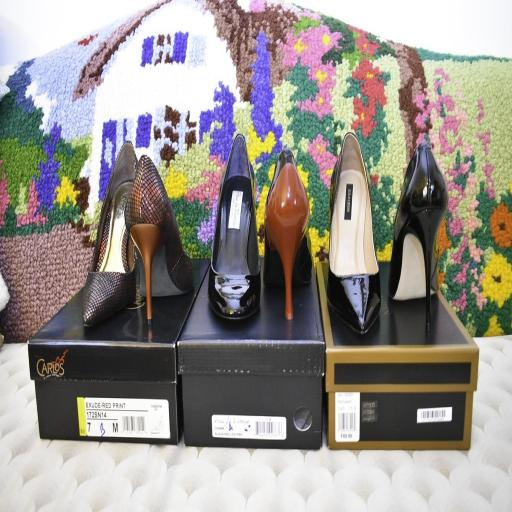heels: (125, 155, 193, 325), (388, 141, 448, 331), (326, 132, 380, 334), (83, 142, 137, 326), (208, 134, 261, 319), (264, 148, 312, 320)
